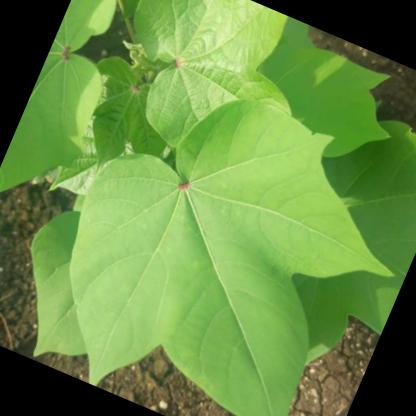cotton: (14, 53, 416, 416)
